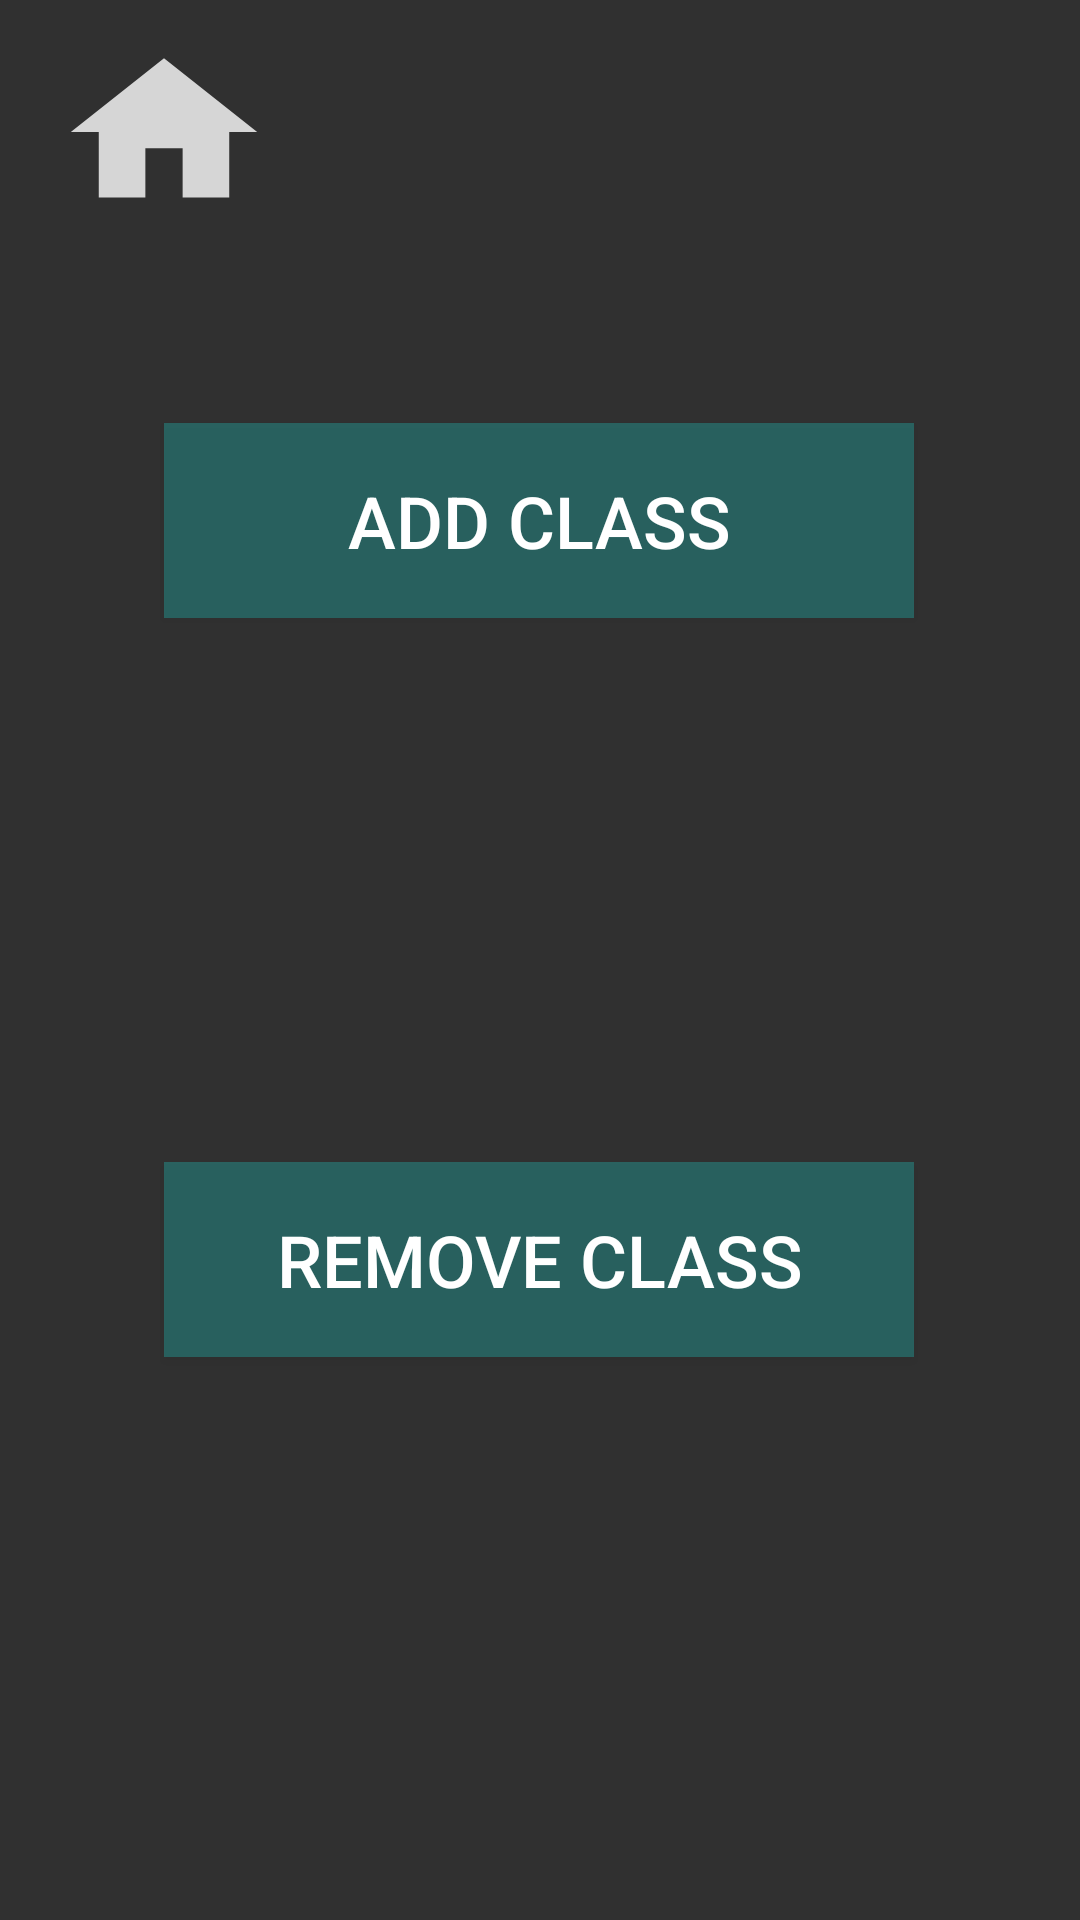

Screen size 1080px x 1920px. Icon name, then its box in pixels as (x1, y1, x2, y2):
home: (71, 58, 257, 198)
